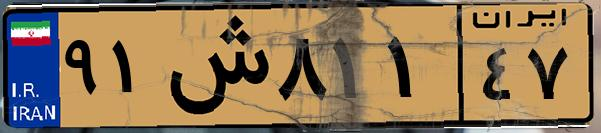1: (385, 28, 445, 110), (330, 28, 385, 110), (110, 28, 158, 98)
4: (475, 38, 525, 113)
7: (525, 38, 570, 115)
8: (270, 28, 330, 110)
9: (57, 26, 110, 100)
ش: (158, 12, 270, 120)
